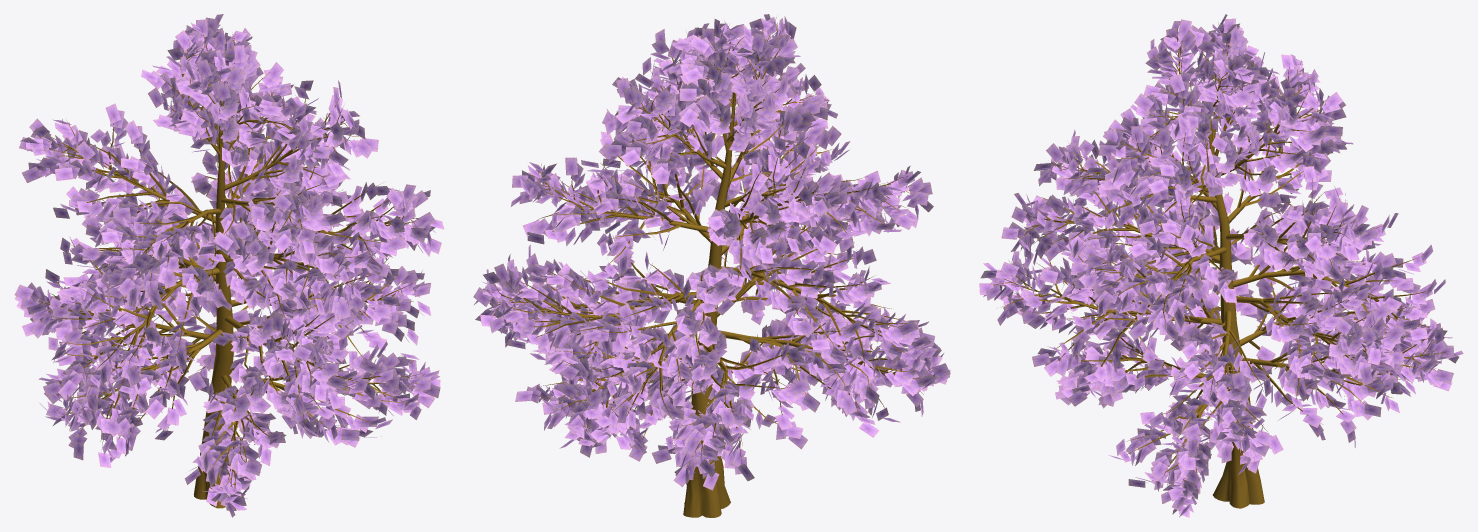
The picture shows the model from 3 angles, left to right: view 1: azimuth 30°, elevation 25°; view 2: azimuth 150°, elevation 25°; view 3: azimuth 270°, elevation 25°; orthographic projection. The views are drawn at different scales.
Parts seen in each view (by area): view 1: 3DSMeshMatrix (×2); view 2: 3DSMeshMatrix (×2); view 3: 3DSMeshMatrix (×2).
Part boxes in pixels (bbox=[...]): 3DSMeshMatrix (×2): bbox=[14, 14, 444, 517]; 3DSMeshMatrix (×2): bbox=[473, 14, 950, 517]; 3DSMeshMatrix (×2): bbox=[979, 14, 1463, 517].
Bounding box in the file's own units: 211 × 232 × 218.
